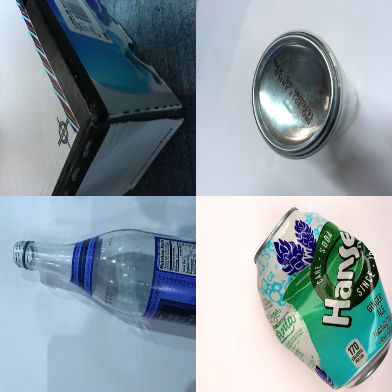cardboard: (1, 1, 188, 196)
metal: (253, 207, 392, 388), (250, 30, 361, 159)
plastic: (13, 229, 197, 327)
